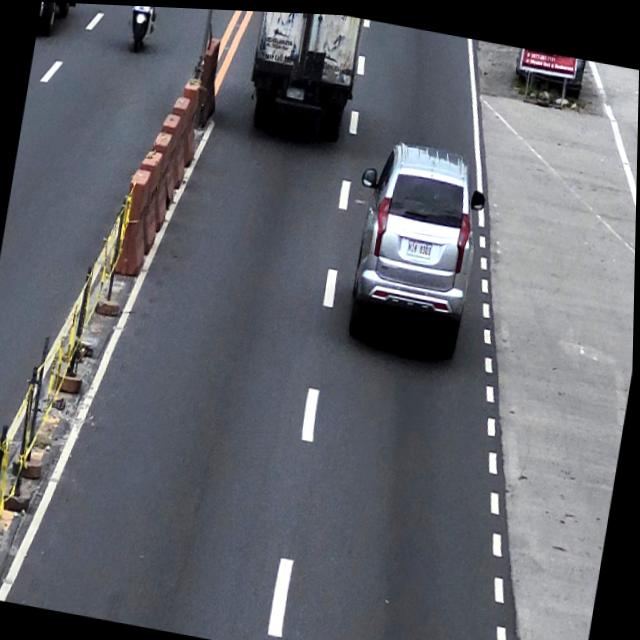Car: (337, 131, 493, 364)
License-Plate: (407, 236, 435, 255), (284, 83, 306, 99)
Truck: (241, 8, 364, 143)
